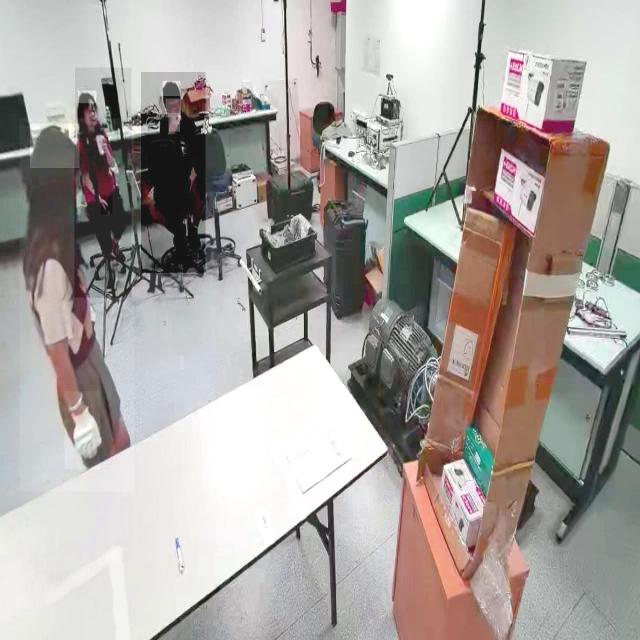face_nomask: (165, 99, 181, 118)
hand_glove: (64, 391, 100, 470)
hand_noglove: (168, 113, 180, 132), (100, 196, 112, 215), (102, 132, 110, 154)
head_nohelmet: (30, 123, 80, 169), (162, 81, 180, 97), (77, 91, 96, 104)
person: (19, 119, 134, 492), (140, 72, 206, 274), (75, 68, 132, 298)
